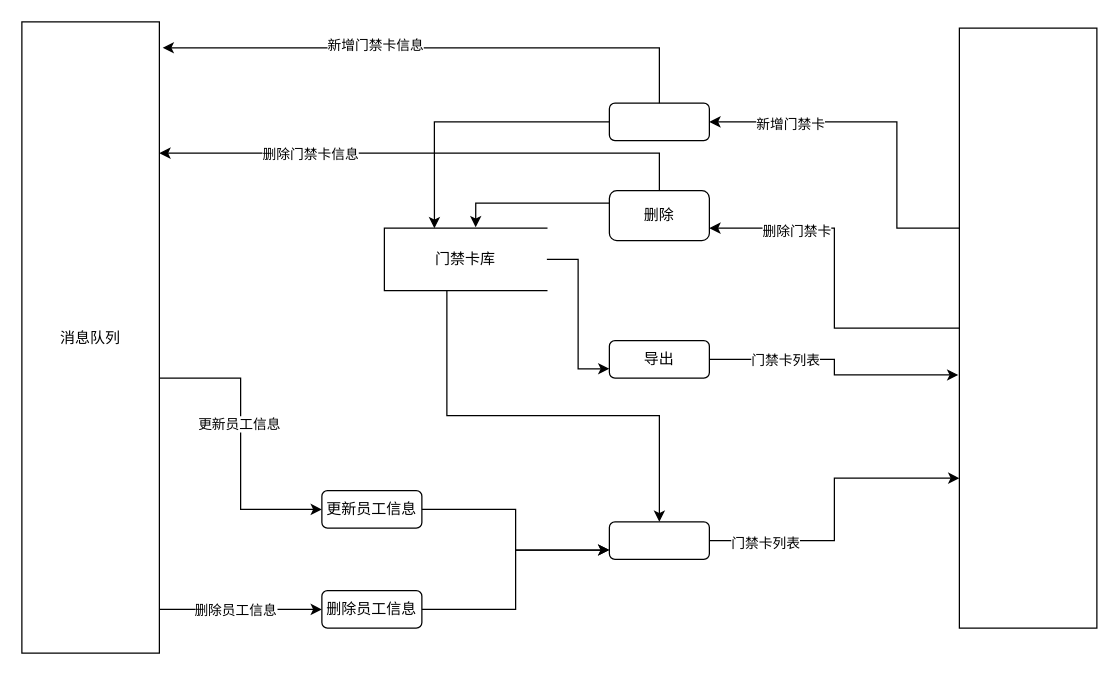
Some shapes in this 1119 by 675 pixel diagram are drawn without their labels. Each missing label, with the box of its shape:
批量新增: (608, 102, 709, 141)
查询门禁卡: (608, 521, 709, 559)
管理员: (958, 27, 1097, 628)
